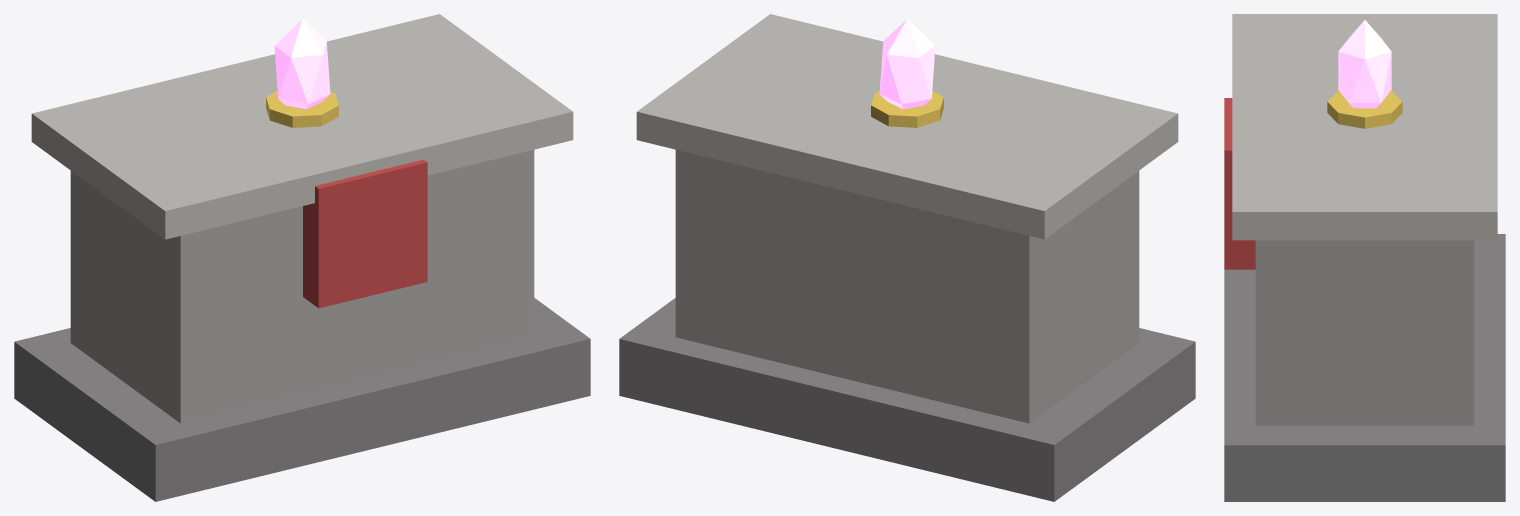
Rendered from SM_Altar.glb.
3 views of the same model, side by side, from view 1: azimuth 30°, elevation 25°; view 2: azimuth 150°, elevation 25°; view 3: azimuth 270°, elevation 25° (orthographic).
Visible parts, largest first — view 1: SM_Altar; view 2: SM_Altar; view 3: SM_Altar.
Part boxes in pixels (box(x1,y1,x2,y2)): SM_Altar: box(14, 14, 590, 501); SM_Altar: box(619, 14, 1195, 501); SM_Altar: box(1224, 14, 1505, 501).
Size of the model in its own units: 1.6 by 1.33 by 0.9.
